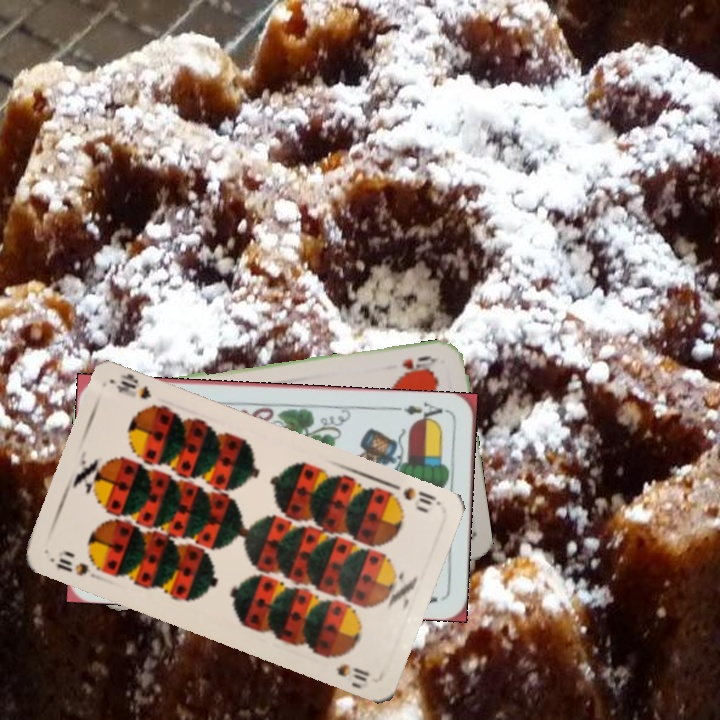EA: (400, 398, 450, 426)
HO: (393, 351, 440, 379)
S10: (383, 479, 442, 508), (51, 554, 92, 579)
